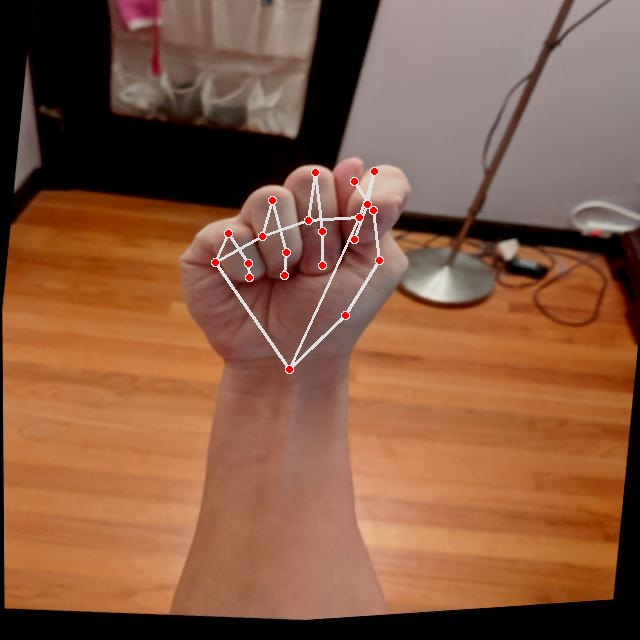T: (160, 133, 427, 397)
